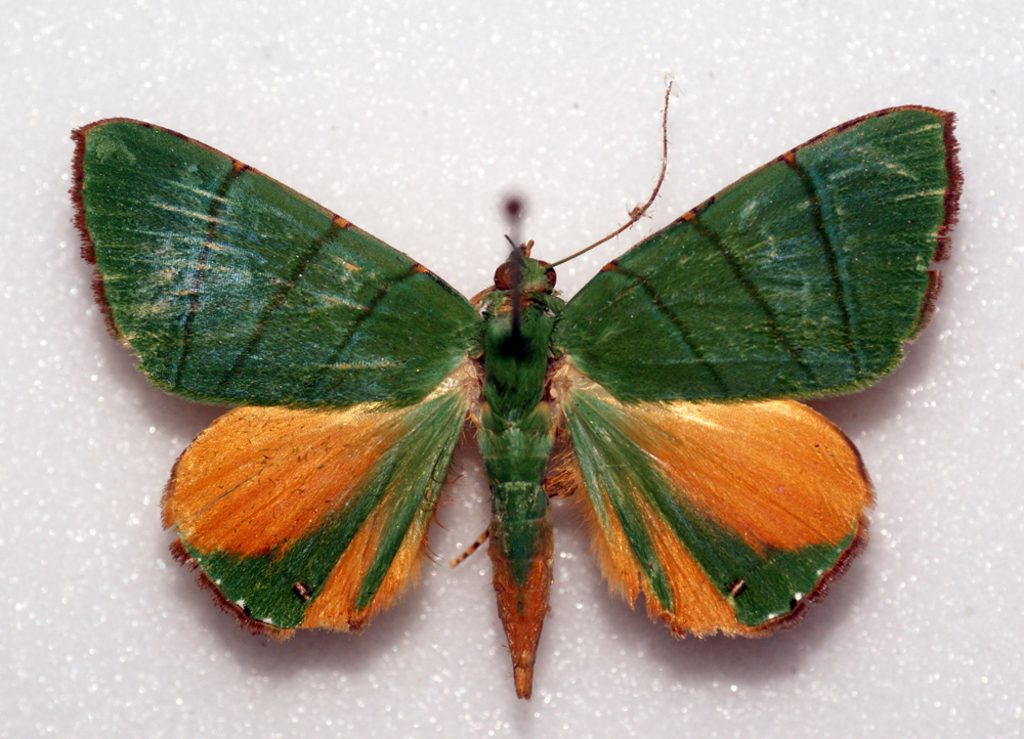Butterfly: (45, 85, 981, 707)
